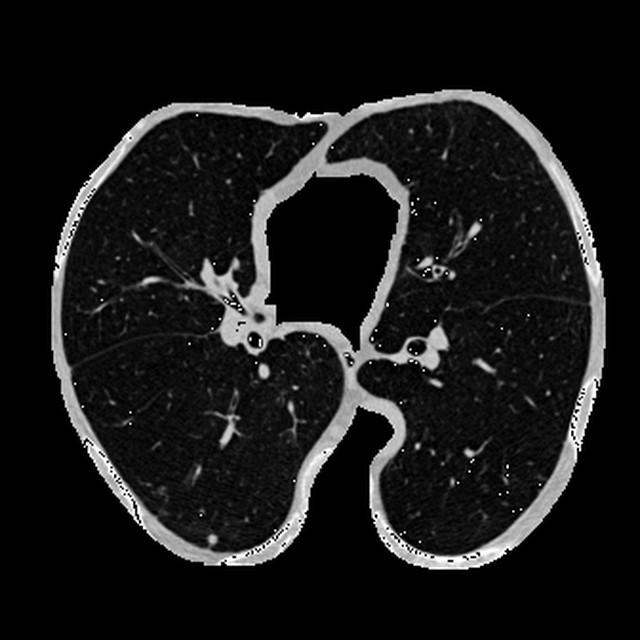PN: (208, 535, 215, 543)
